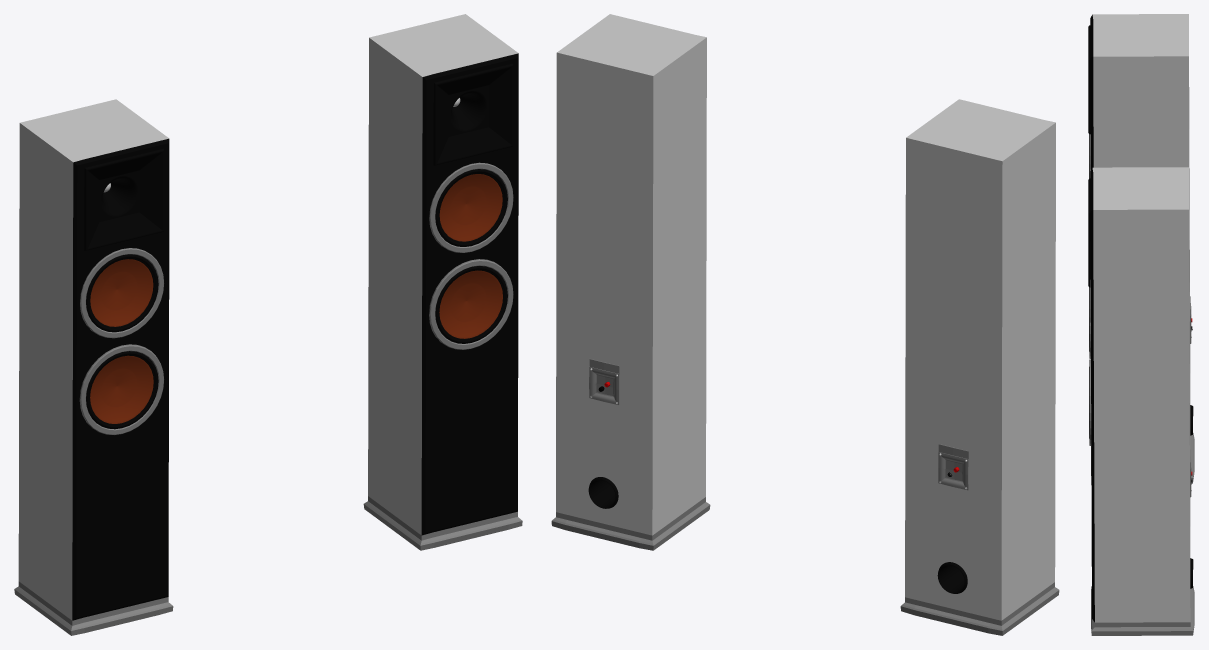
Rendered from caixa torre atmos.obj.
3 views of the same model, side by side, from view 1: azimuth 30°, elevation 25°; view 2: azimuth 150°, elevation 25°; view 3: azimuth 270°, elevation 25° (orthographic). The views are drawn at different scales.
Visible parts, largest first — view 1: speaker_full__Cube.010, wood_speaker_Cube.001, tweeter_Cube.004, speaker_2_Cylinder.004, speaker_1_Cylinder.002; view 2: speaker_full__Cube.010, wood_speaker_Cube.001, borne_Cube.006, Bass_Reflex_Cylinder.006; view 3: wood_speaker_Cube.001, speaker_full__Cube.010, tweeter_Cube.004, speaker_2_Cylinder.004.
Part boxes in pixels (left/top/right/bottom): speaker_full__Cube.010: left=14, top=99, right=173, bottom=635; wood_speaker_Cube.001: left=363, top=14, right=522, bottom=550; tweeter_Cube.004: left=433, top=63, right=513, bottom=165; speaker_2_Cylinder.004: left=429, top=259, right=513, bottom=349; speaker_1_Cylinder.002: left=429, top=162, right=513, bottom=252; speaker_full__Cube.010: left=900, top=99, right=1059, bottom=635; wood_speaker_Cube.001: left=551, top=14, right=710, bottom=550; borne_Cube.006: left=589, top=359, right=619, bottom=404; Bass_Reflex_Cylinder.006: left=588, top=477, right=618, bottom=508; wood_speaker_Cube.001: left=1090, top=167, right=1194, bottom=635; speaker_full__Cube.010: left=1088, top=14, right=1194, bottom=482; tweeter_Cube.004: left=1088, top=178, right=1090, bottom=287; speaker_2_Cylinder.004: left=1089, top=359, right=1091, bottom=445.
Bounding box in the file's own units: 18.51 × 18.55 × 4.19.
